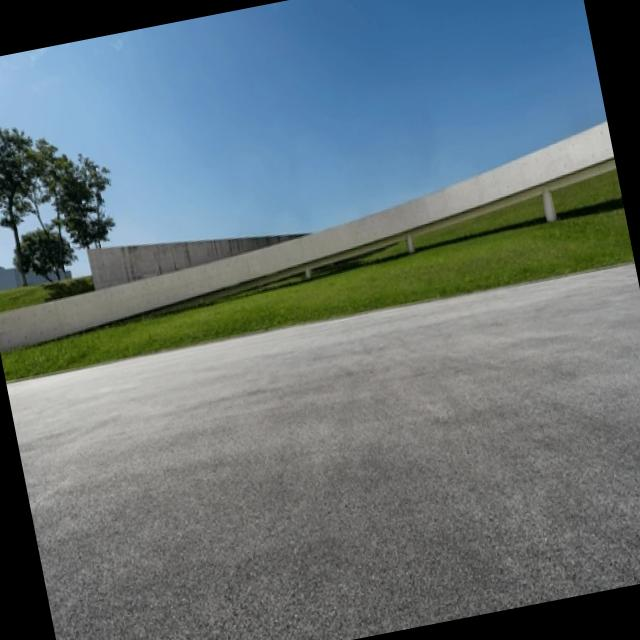asphalt: (7, 265, 640, 640)
cement: (0, 120, 614, 350), (90, 234, 302, 287)
